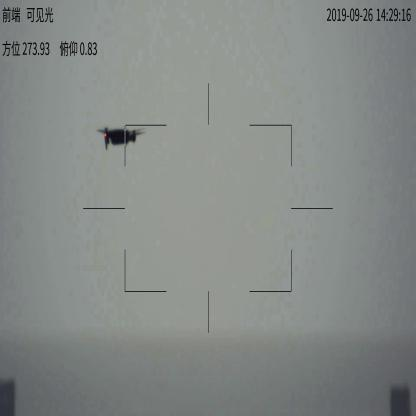uav: (92, 124, 145, 153)
